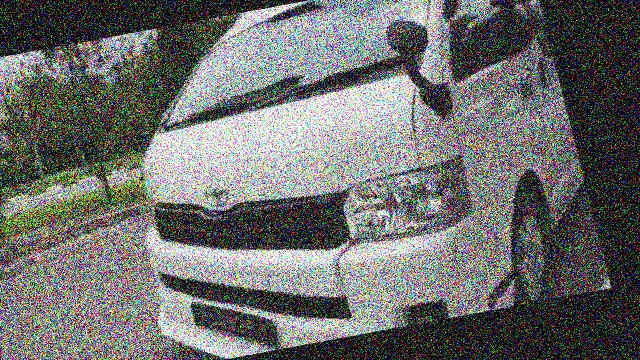van: (87, 0, 607, 360)
